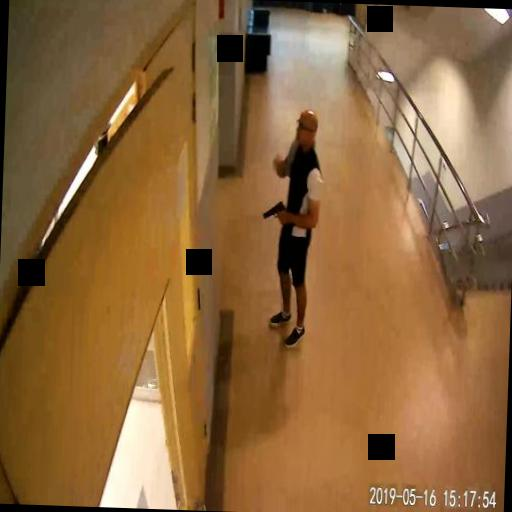Handgun: (261, 199, 284, 221)
